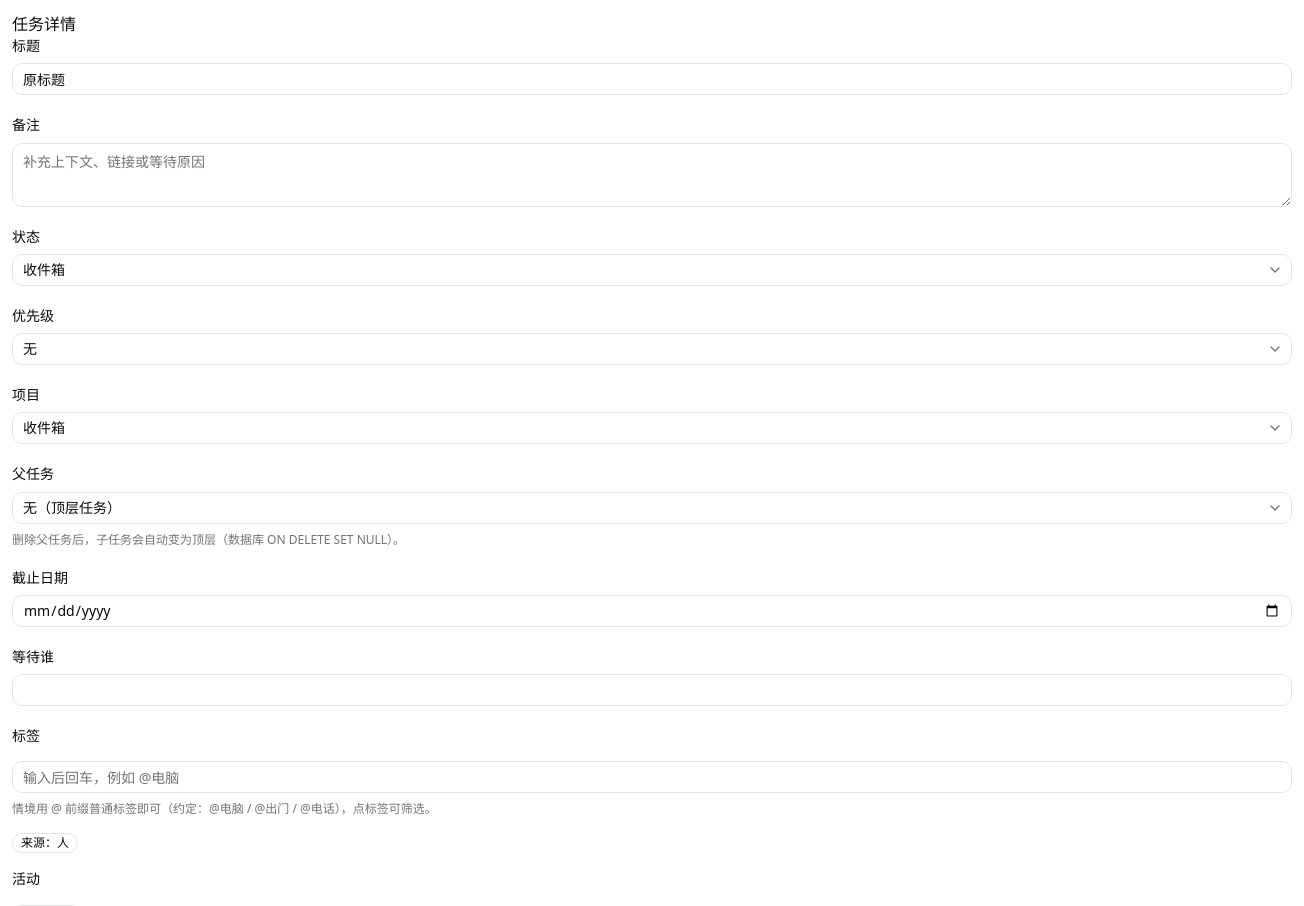
Scenario: task detail autosave (#115) › keepalive 回退的普通请求也失败：显示「保存失败 · 重试」，beforeunload 继续拦
This screenshot has width=1304, height=906.
Type "两次都没发出去" into the text box labelled "备注" at (652, 174), box [12, 142, 1292, 206]
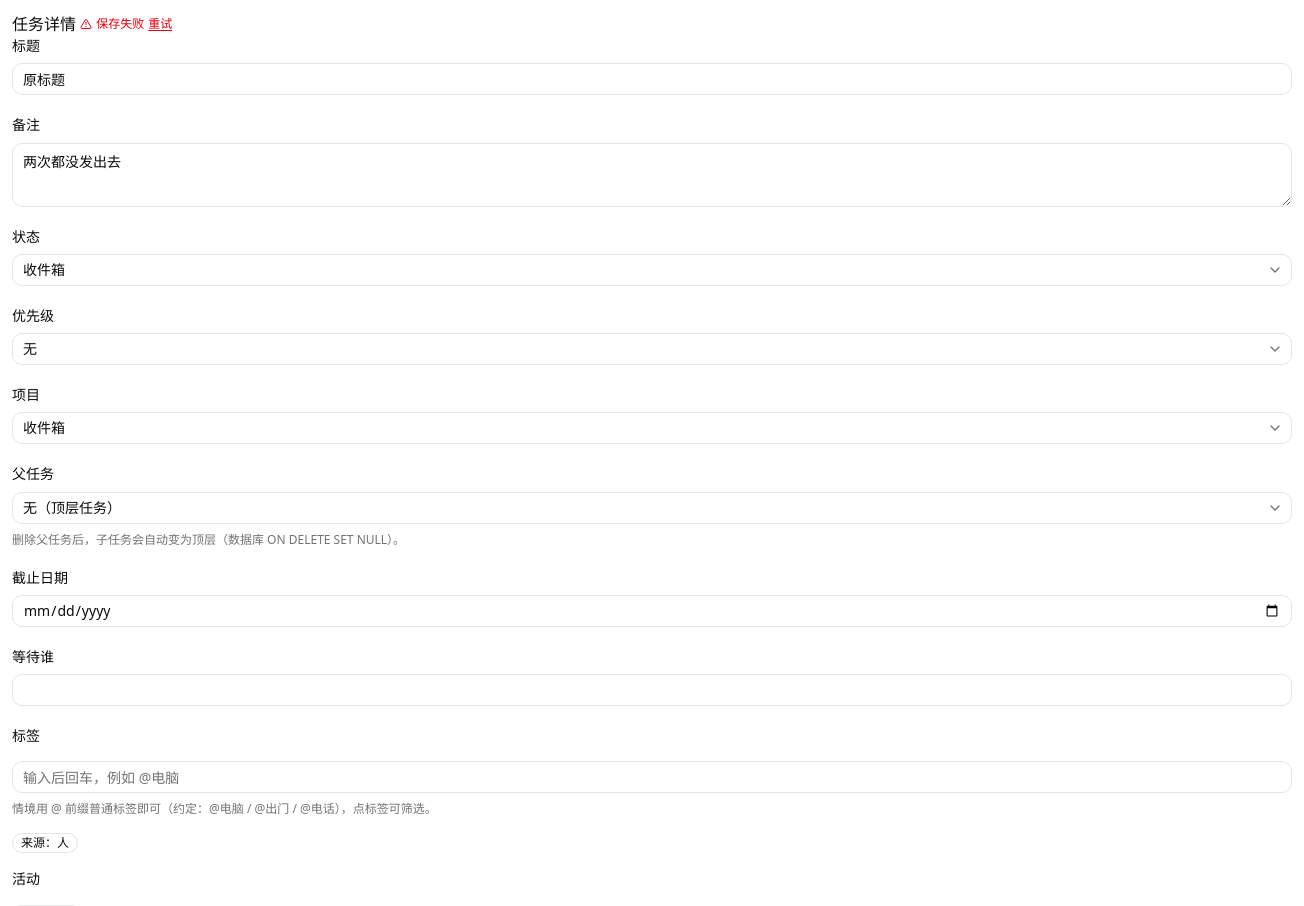
Expected: the message "保存失败 重试" is shown, [80, 15, 172, 32]
